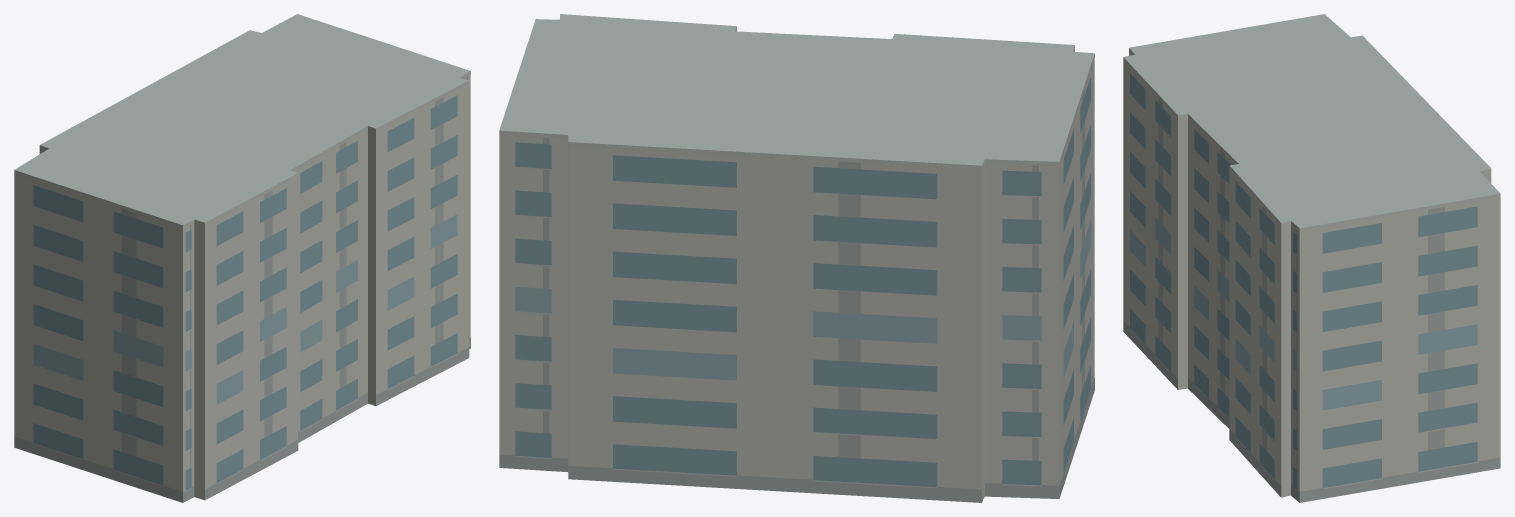
Rendered from survey-upis-32853886.glb.
3 renders of one model, left to right at view 1: azimuth 30°, elevation 25°; view 2: azimuth 150°, elevation 25°; view 3: azimuth 270°, elevation 25°, orthographic. The views are drawn at different scales.
Visible parts, largest first — view 1: survey-upis-32853886.tmp; view 2: survey-upis-32853886.tmp; view 3: survey-upis-32853886.tmp.
Boxes of the visible parts, left/top/right/bottom form: survey-upis-32853886.tmp: left=14, top=14, right=470, bottom=502; survey-upis-32853886.tmp: left=499, top=14, right=1094, bottom=502; survey-upis-32853886.tmp: left=1123, top=14, right=1500, bottom=502.
Size of the model in its own units: 32.97 by 19.7 by 24.55.
